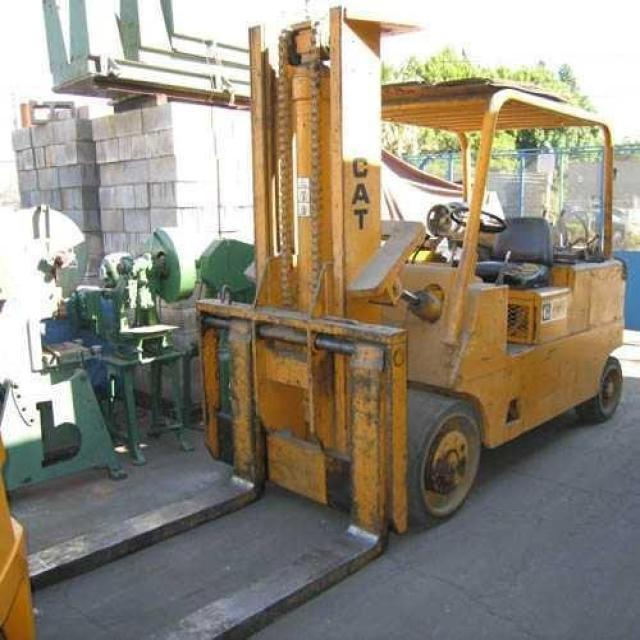forklift: (208, 9, 620, 538)
